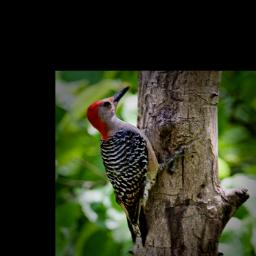Woodpecker: (79, 83, 200, 247)
